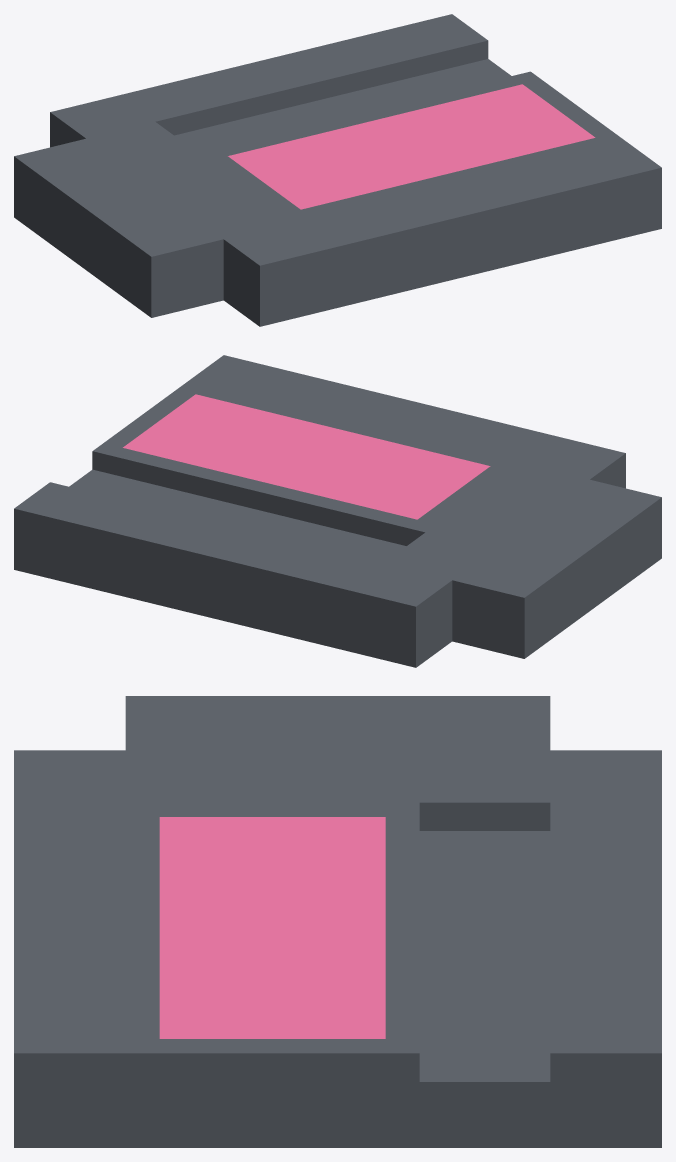
File: Game_cartridge_04.fbx
3 views of the same model, one above another, from view 1: azimuth 30°, elevation 25°; view 2: azimuth 150°, elevation 25°; view 3: azimuth 270°, elevation 25° (orthographic). The views are drawn at different scales.
Parts seen in each view (by area): view 1: Plane.264; view 2: Plane.264; view 3: Plane.264.
Boxes of the visible parts, x1,y1,x2,y2 form: Plane.264: [14, 14, 661, 326]; Plane.264: [14, 355, 661, 667]; Plane.264: [14, 696, 661, 1147].
Size of the model in its own units: 0.3778 by 0.2895 by 0.0466.
